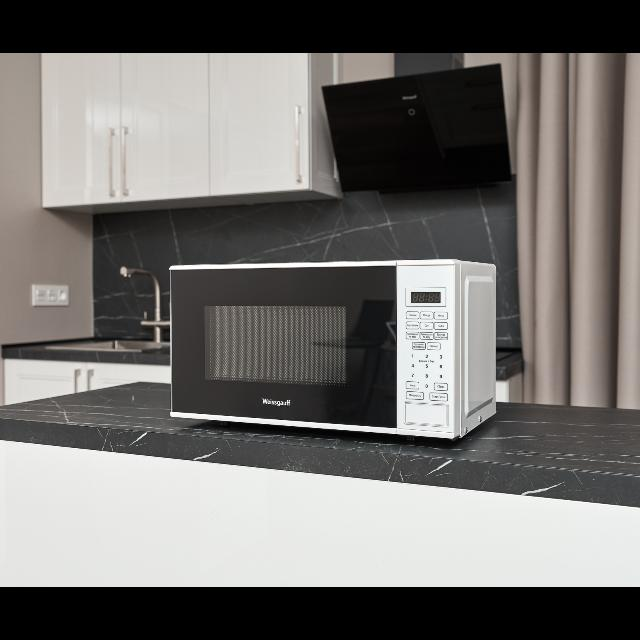Microwave: (164, 259, 502, 447)
